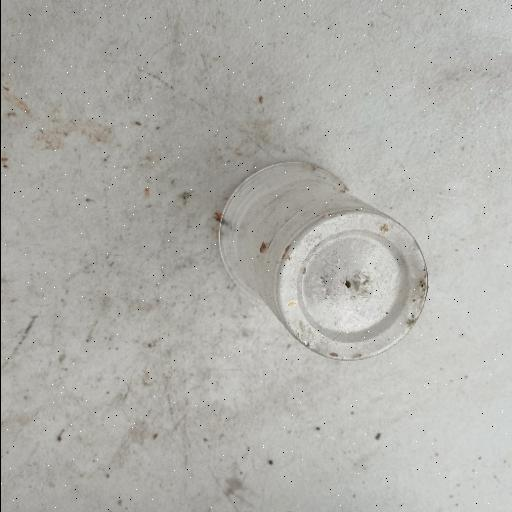Plastic: (214, 158, 431, 364)
